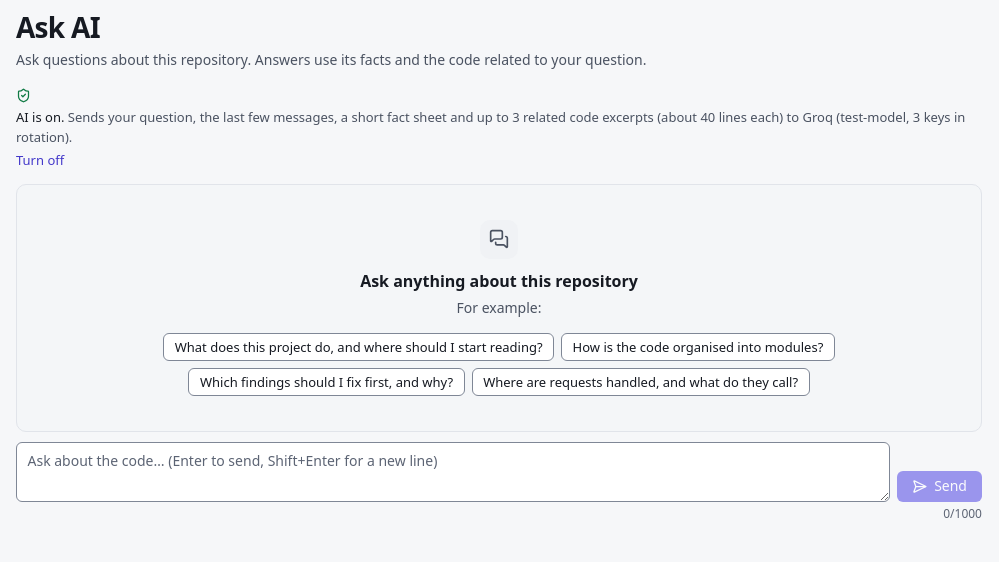
Test: repository chat › keeps the question when asking fails
The image size is (999, 562).
Expected: the text "AI is on." is shown, [16, 108, 64, 126]
Type "Explain billing" into the text box named "Your question". click: (453, 472)
box: [16, 442, 890, 502]
Then press Enter
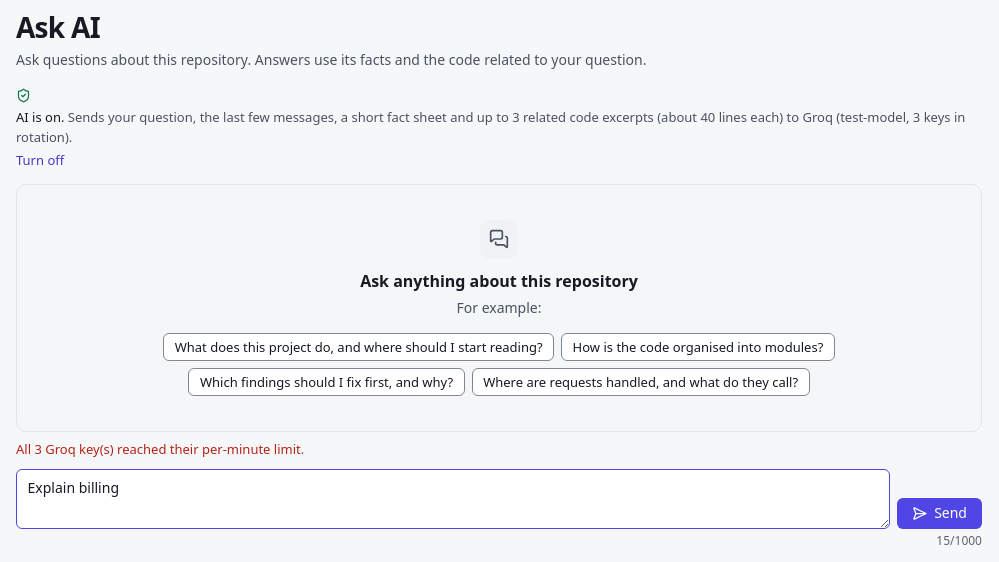
Expected: the message shows "per-minute limit", [16, 440, 304, 458]
